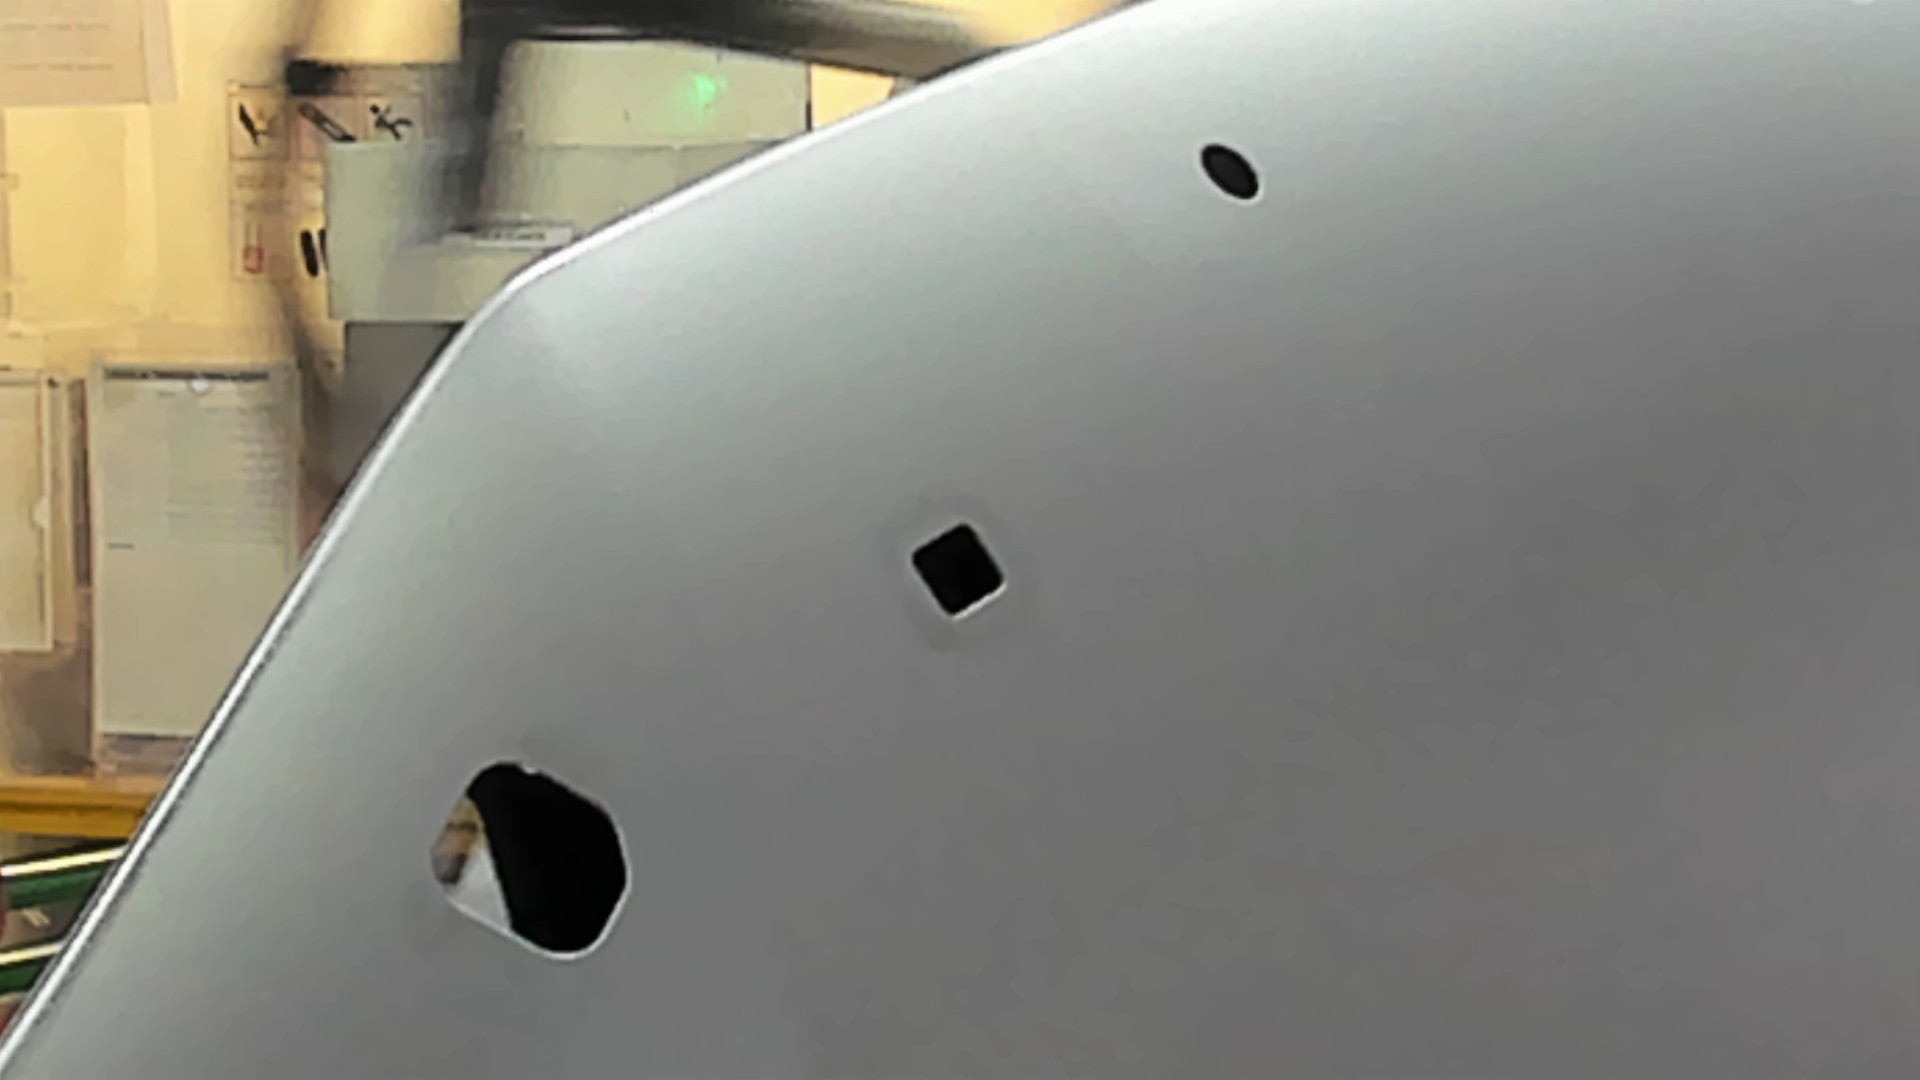chico: (1180, 133, 1276, 211)
grande: (423, 746, 645, 973)
mediano: (891, 514, 1025, 636)
